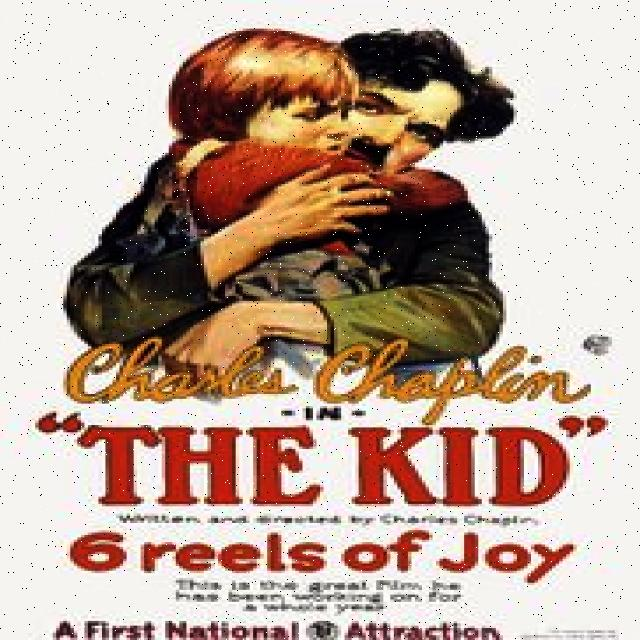movie-judul: (25, 344, 606, 587)
picture: (47, 23, 550, 416)
